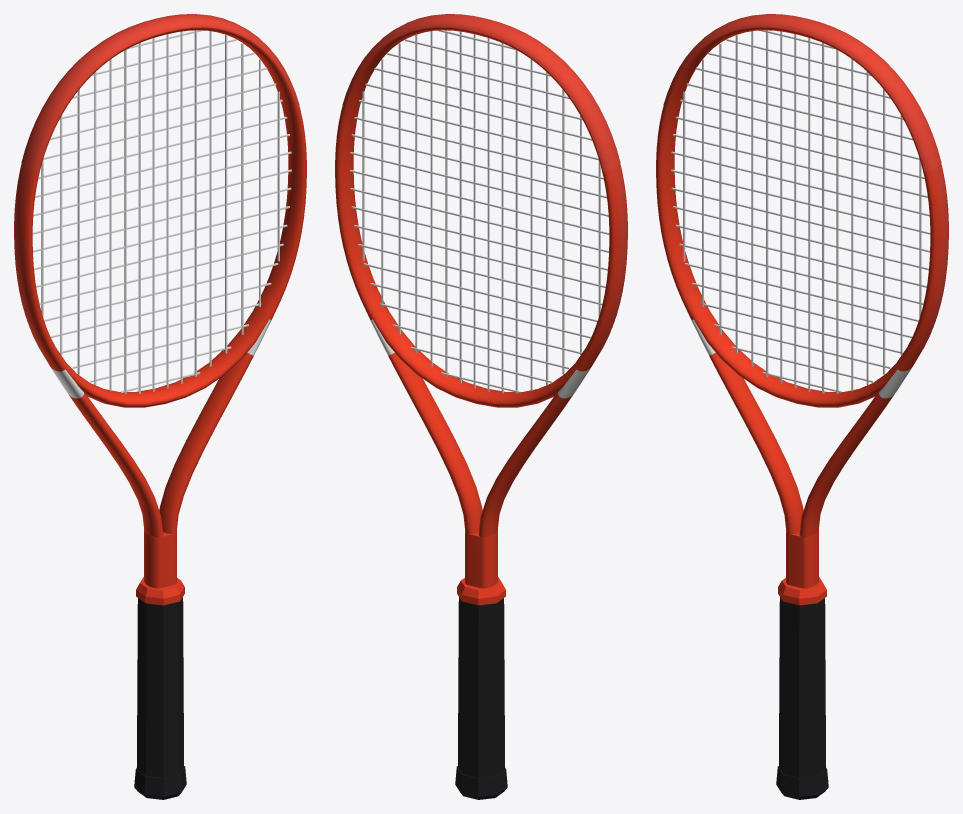
Rendered from wilson-defyer-98-pro.glb.
3 renders of one model, left to right at view 1: azimuth 30°, elevation 25°; view 2: azimuth 150°, elevation 25°; view 3: azimuth 330°, elevation 25°, orthographic.
Visible parts, largest first — view 1: frame, strings_mains, strings_crosses, grip, bumper, grommets, butt_cap, collar; view 2: frame, strings_mains, strings_crosses, grip, bumper, grommets, butt_cap, collar; view 3: frame, strings_mains, strings_crosses, grip, bumper, grommets, butt_cap, collar.
Boxes of the visible parts, box(x1,y1,x2,y2) form: frame: box(14, 27, 306, 588); strings_mains: box(41, 30, 279, 393); strings_crosses: box(32, 30, 291, 393); grip: box(137, 597, 183, 777); bumper: box(21, 14, 299, 171); grommets: box(14, 164, 45, 352); butt_cap: box(134, 766, 186, 799); collar: box(136, 577, 184, 605); frame: box(335, 27, 627, 588); strings_mains: box(362, 30, 600, 393); strings_crosses: box(349, 30, 609, 393); grip: box(458, 597, 504, 777); bumper: box(342, 14, 620, 171); grommets: box(596, 164, 627, 352); butt_cap: box(455, 766, 507, 799); collar: box(457, 577, 505, 605); frame: box(656, 27, 948, 588); strings_mains: box(683, 30, 921, 393); strings_crosses: box(671, 30, 930, 393); grip: box(779, 597, 825, 777); bumper: box(663, 14, 941, 171); grommets: box(917, 164, 948, 352); butt_cap: box(776, 766, 828, 799); collar: box(778, 577, 826, 605).
Bounding box in the file's own units: 0.2672 × 0.6861 × 0.0396.
